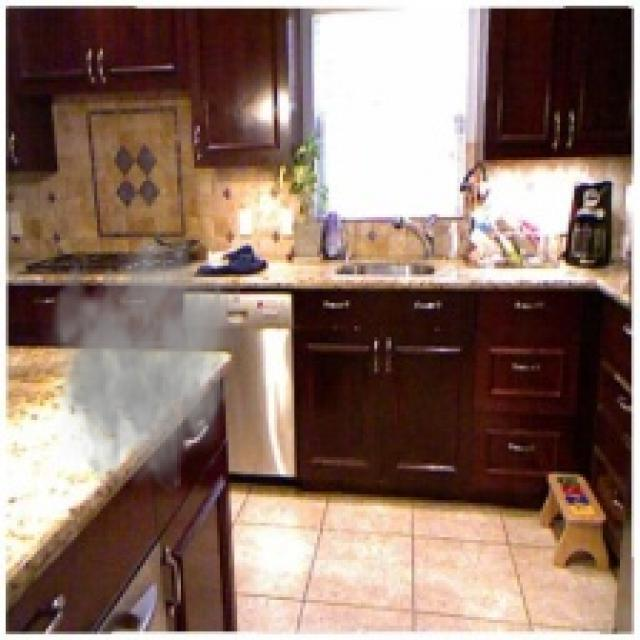Smoke: (37, 225, 240, 500)
